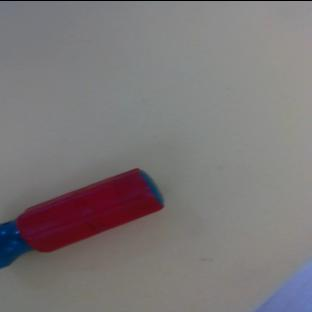part_2_good: (0, 161, 167, 270)
